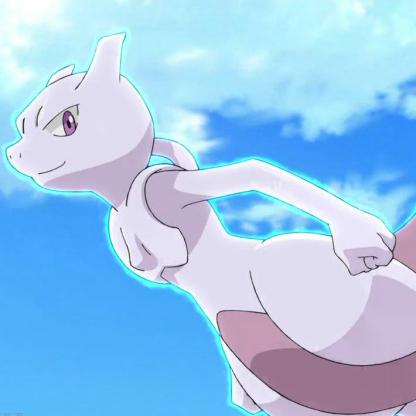Mewtwo: (1, 21, 403, 352)
